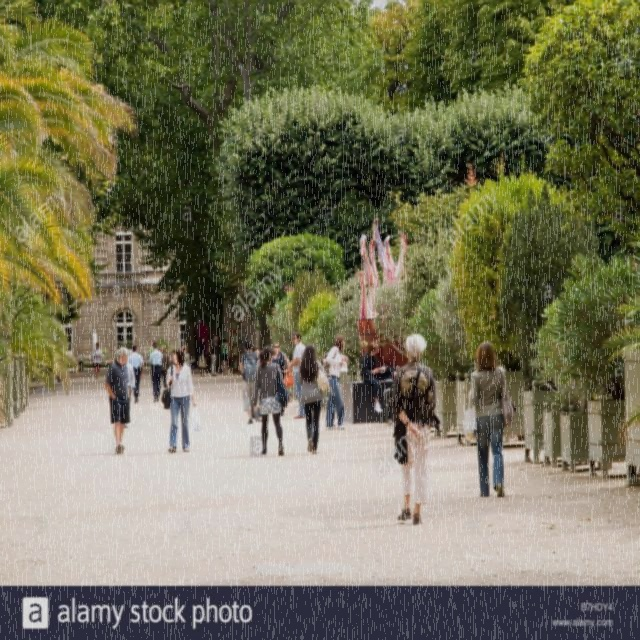pessoa: (388, 332, 442, 526), (462, 341, 518, 498), (251, 344, 289, 456), (160, 346, 197, 454), (298, 343, 330, 455), (358, 340, 406, 414), (317, 334, 350, 431), (104, 344, 130, 454), (270, 341, 295, 418), (238, 340, 260, 424), (288, 332, 308, 420), (128, 343, 145, 404), (148, 342, 164, 404), (404, 374, 423, 426), (121, 352, 136, 404), (158, 344, 170, 389), (89, 342, 103, 379), (197, 334, 207, 378), (209, 335, 219, 377), (220, 337, 230, 376), (180, 344, 190, 364), (91, 328, 99, 349), (252, 346, 260, 356), (57, 375, 61, 383)
